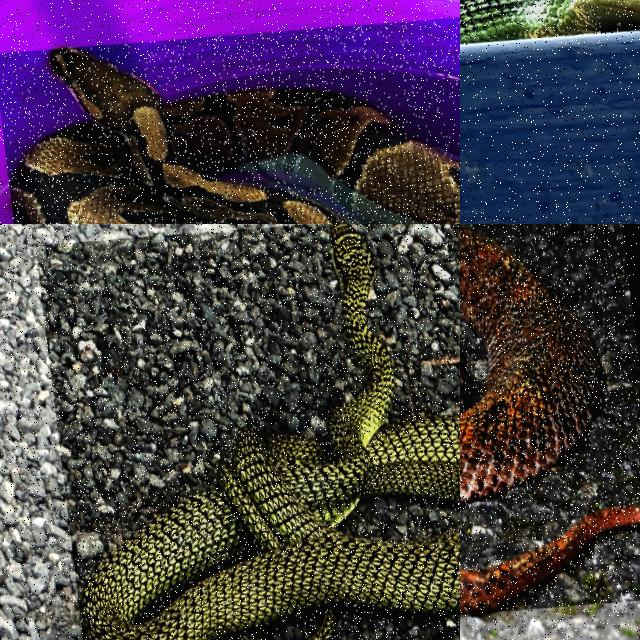Chrysopelea ornata: (80, 224, 459, 639), (460, 0, 639, 44)
Ovophis monticola: (460, 227, 599, 502)
Python bivittatus: (11, 48, 459, 223)
snake: (80, 224, 459, 639), (11, 48, 459, 223), (460, 227, 599, 502), (460, 0, 639, 44)
